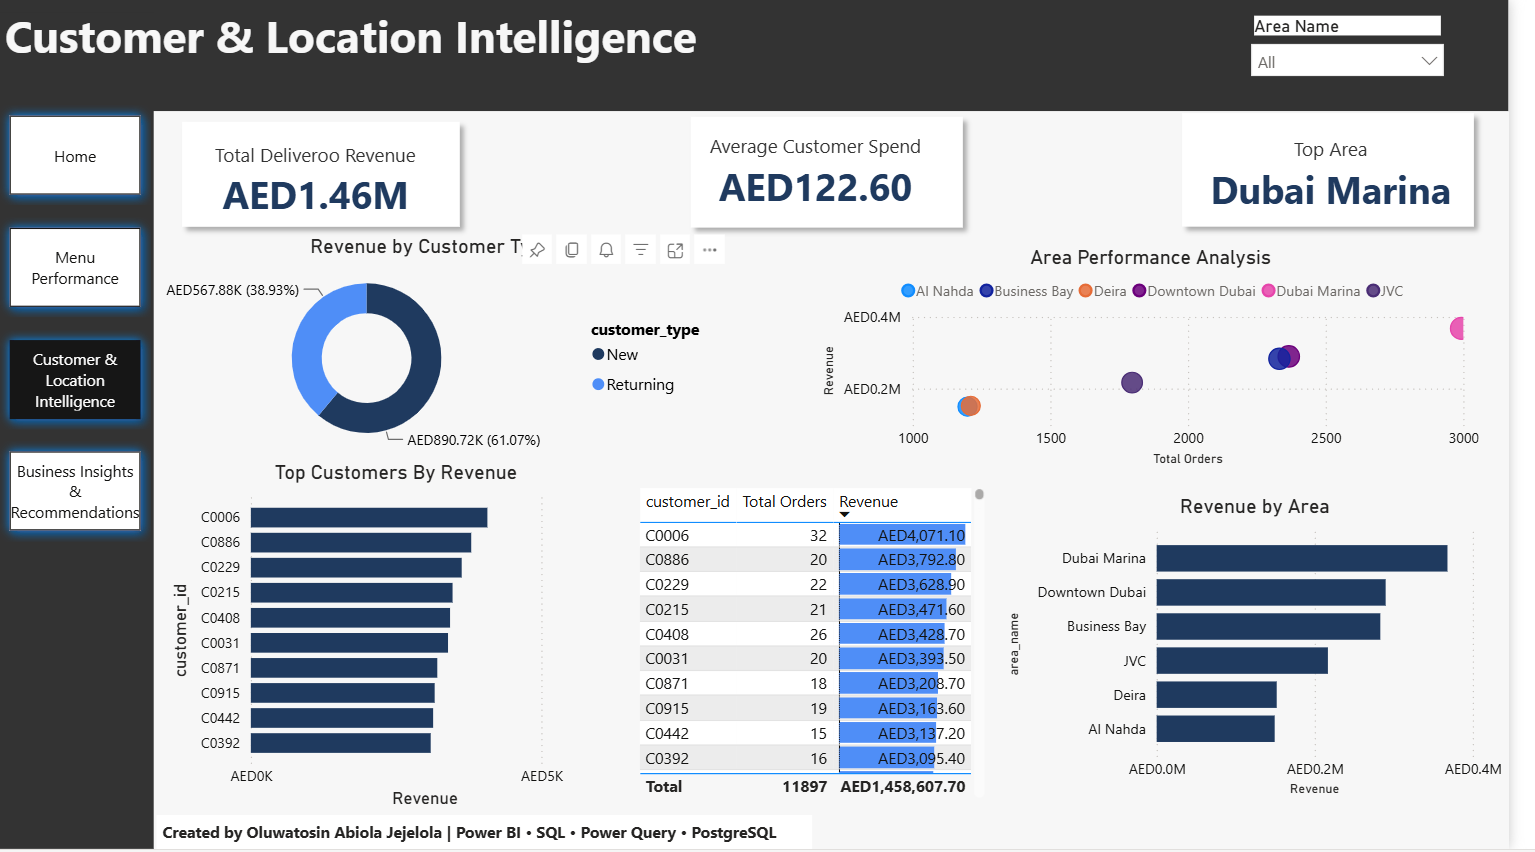

This screenshot's page, from the dashboard's own definition file:
{"tool":"powerbi","page":{"name":"Customer & Location Intelligence","canvas":[1280,720],"ordinal":2},"visuals":[{"type":"group","id":"g1","title":"Background","box":[0,0,1280.2,719.8],"z":0},{"type":"shape","box":[146.5,94.6,253.4,106.9],"z":0,"group":"g1"},{"type":"shape","box":[994.2,87.4,265.4,114.1],"z":1000,"group":"g1"},{"type":"barChart","title":"Revenue by Area","fields":{"Category":["customer_locations.area_name"],"Y":["orders.Revenue"]},"box":[850.1,419.1,429.9,261.8],"z":1000},{"type":"shape","box":[577.6,90.1,248.6,111.7],"z":2000,"group":"g1"},{"type":"cardVisual","fields":{"Data":["orders.Revenue"]},"box":[146.5,106.9,245,91.3],"z":2000},{"type":"shape","box":[0,0,1280.2,94.2],"z":3000,"group":"g1"},{"type":"cardVisual","fields":{"Data":["orders.AOV"]},"box":[545.1,99.7,295.4,91.3],"z":3000},{"type":"shape","box":[0,10.5,131.4,709.3],"z":4000,"group":"g1"},{"type":"donutChart","title":"Revenue by Customer Type","fields":{"Category":["customers.customer_type"],"Y":["orders.Revenue"]},"box":[116.5,198.1,499.5,192.1],"z":4000},{"type":"clusteredBarChart","title":"Top Customers By Revenue","fields":{"Category":["customers.customer_id"],"Y":["orders.Revenue"]},"box":[140.5,390.2,391.4,300.2],"z":5000},{"type":"tableEx","fields":{"Values":["customers.customer_id","orders.Total Orders","orders.Revenue"]},"box":[537.2,409.3,303.5,272.1],"z":6000},{"type":"scatterChart","title":"Area Performance Analysis","fields":{"Y":["orders.Revenue"],"X":["orders.Total Orders"],"Series":["customer_locations.area_name"],"Size":["customers.Customers per Area"]},"box":[692.8,207.7,566.8,192.1],"z":7000},{"type":"cardVisual","fields":{"Data":["customer_locations.Top Area"]},"box":[994.2,103.3,270.2,90.1],"z":8000},{"type":"textbox","box":[133.7,690.7,555.8,29.1],"z":9000},{"type":"pageNavigator","box":[0,89.5,129.5,373.8],"z":10000},{"type":"textbox","box":[0,0,615.8,71.4],"z":11000},{"type":"slicer","fields":{"Values":["customer_locations.area_name"]},"box":[1051.3,8.5,183.9,76.2],"z":12000}]}

Visuals, with their boxes in screenshot pixels (x1, y1, x2, y2), scaled from the page's 1280x720 canvas onto the 1535x852 screenshot:
"Background" group: 0 0 1534 851
shape: 176 112 480 238
shape: 1192 103 1511 238
"Revenue by Area" barChart: 1019 496 1534 806
shape: 693 107 991 239
cardVisual - orders.Revenue: 176 126 469 235
shape: 0 0 1534 111
cardVisual - orders.AOV: 654 118 1008 226
shape: 0 12 158 851
"Revenue by Customer Type" donutChart: 140 234 739 462
"Top Customers By Revenue" clusteredBarChart: 168 462 638 817
tableEx - customers.customer_id x orders.Total Orders: 644 484 1008 806
"Area Performance Analysis" scatterChart: 831 246 1511 473
cardVisual - customer_locations.Top Area: 1192 122 1516 229
textbox: 160 817 827 851
pageNavigator: 0 106 155 548
textbox: 0 0 738 84
slicer - customer_locations.area_name: 1261 10 1481 100
